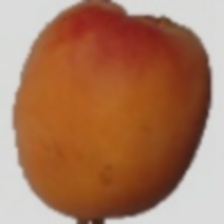apricot: (7, 46, 178, 191)
